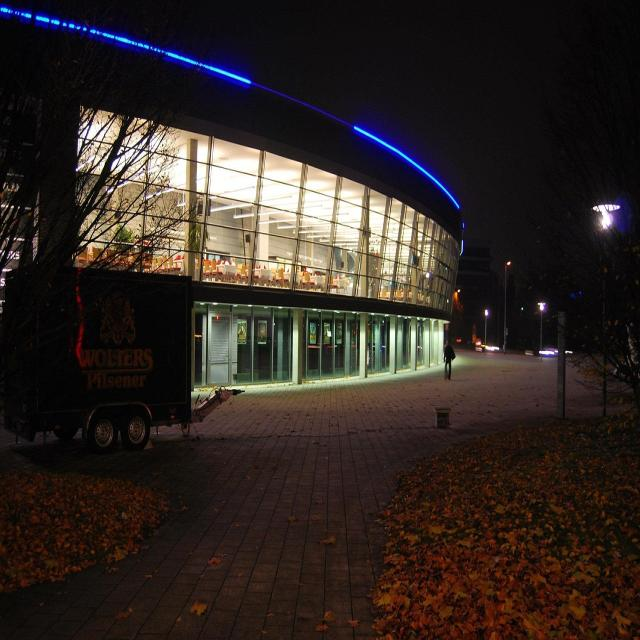streetlight: (590, 204, 624, 232), (481, 300, 493, 322), (538, 298, 548, 316)
